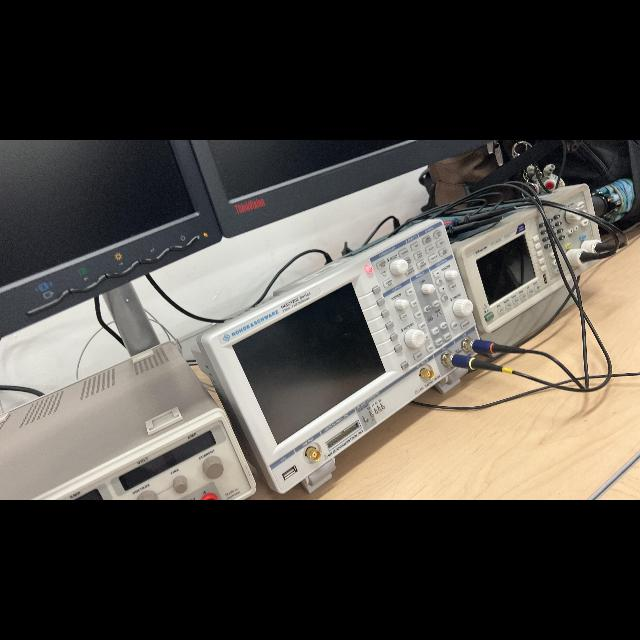Digital-Oscilloscope: (196, 220, 477, 493)
